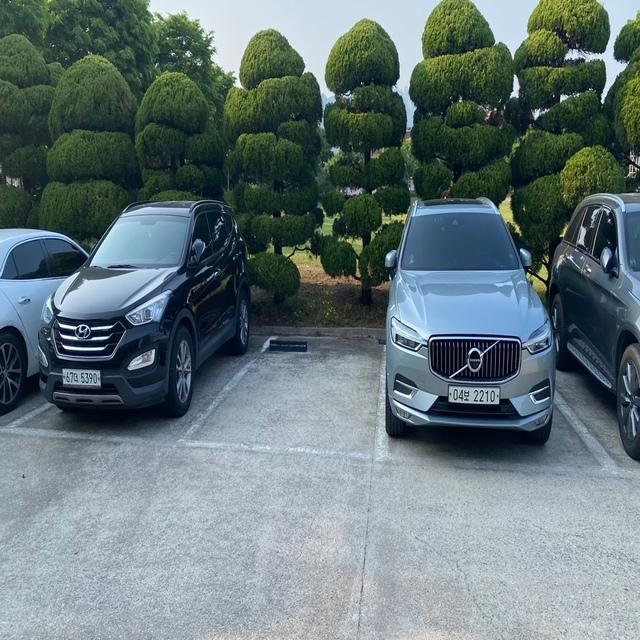empty: (163, 327, 396, 470)
occupied: (45, 193, 248, 420), (392, 205, 560, 439)
